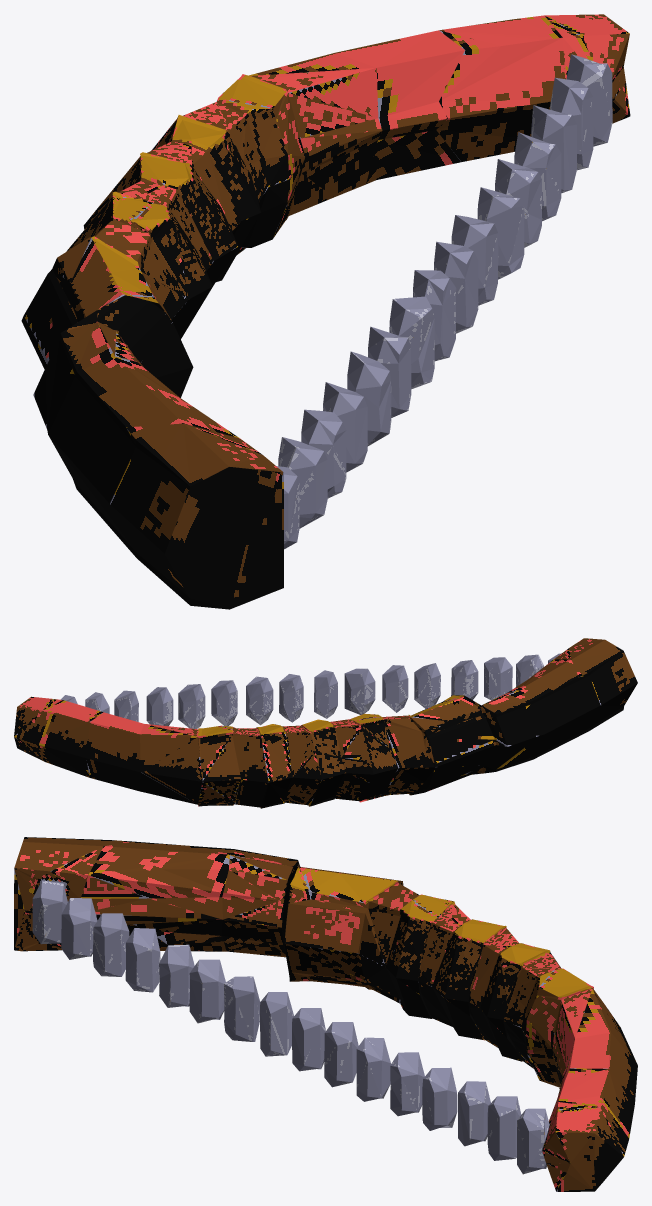
3 views of the same model, one above another, from view 1: azimuth 30°, elevation 25°; view 2: azimuth 150°, elevation 25°; view 3: azimuth 270°, elevation 25° (orthographic). The views are drawn at different scales.
Visible parts, largest first — view 1: OBJ01f; view 2: OBJ01f; view 3: OBJ01f.
Part boxes in pixels (x1,y1,x2,y2): OBJ01f: (21,14,630,609); OBJ01f: (14,638,637,808); OBJ01f: (14,837,637,1191).
Bounding box in the file's own units: 0.4443 × 0.0807 × 0.3992.
1 material, 1 textured.
